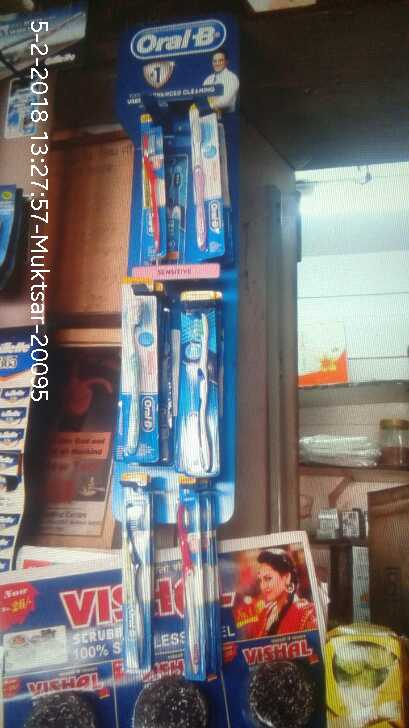oralb: (168, 489, 214, 678), (179, 306, 230, 476), (185, 101, 232, 250), (130, 126, 178, 254), (119, 296, 154, 457), (124, 475, 150, 676)
